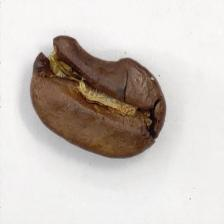NG: (34, 36, 144, 118)
